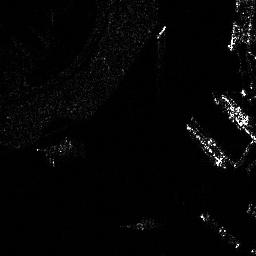ship: (221, 93, 250, 126)
